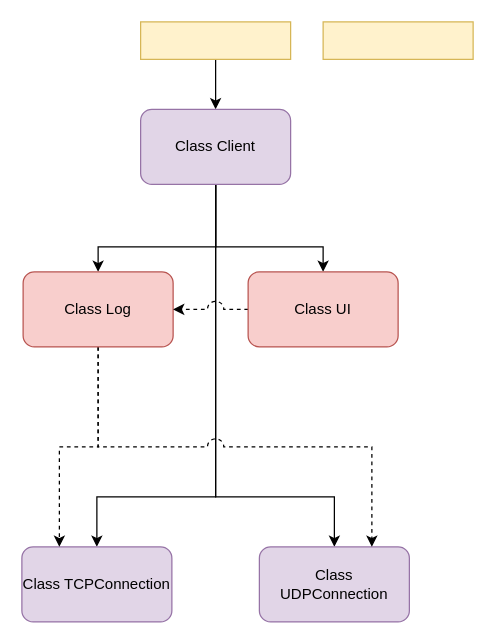
Some shapes in this 495 by 644 pixel diagram are drawn without their labels. Each missing label, with the centre of its shape:
main.py: the point at 215,40
utils.py: the point at 397,40
